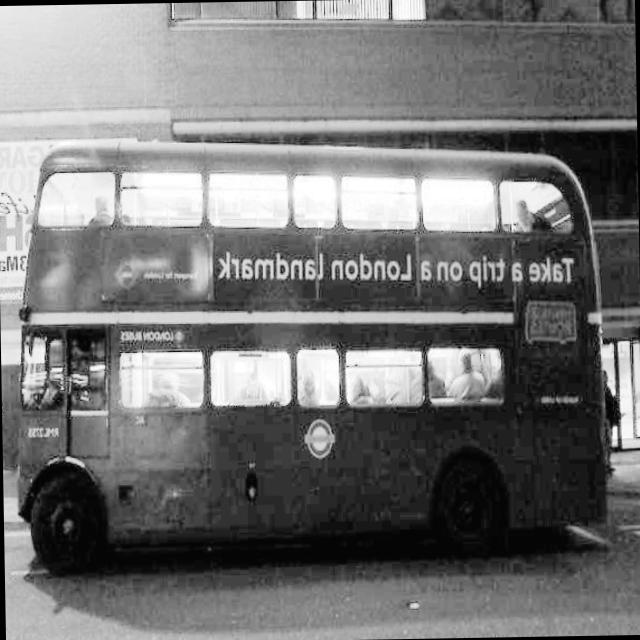Bus: (2, 120, 614, 614)
